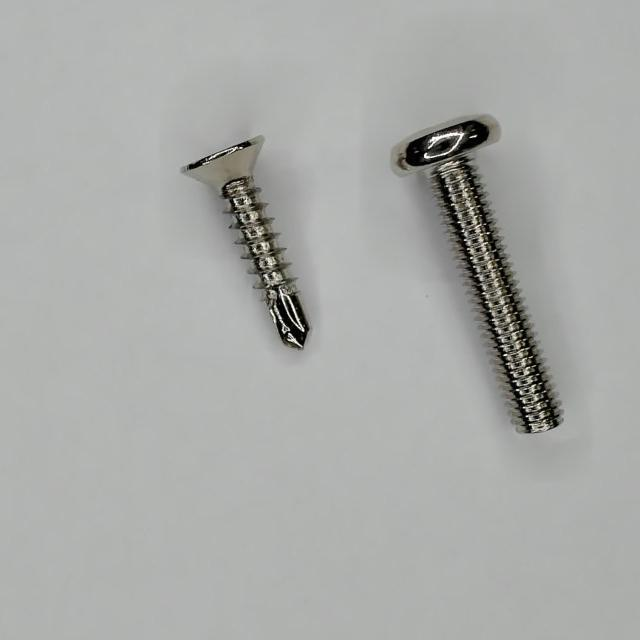Screw: (394, 115, 563, 434), (181, 135, 309, 348)
